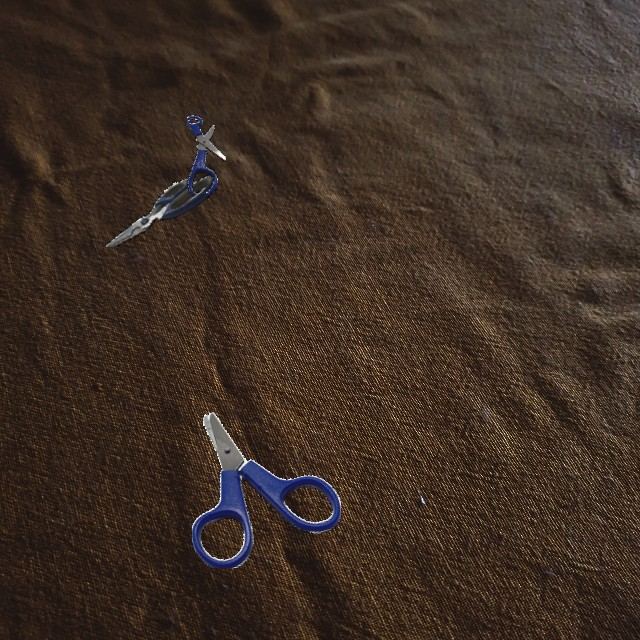scissors: (192, 412, 341, 568), (106, 175, 215, 247), (187, 115, 226, 194)
